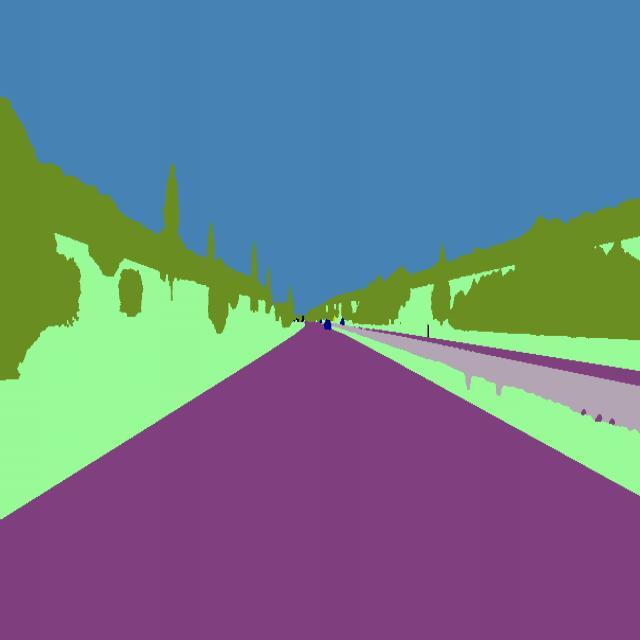safe: (322, 318, 334, 333)
